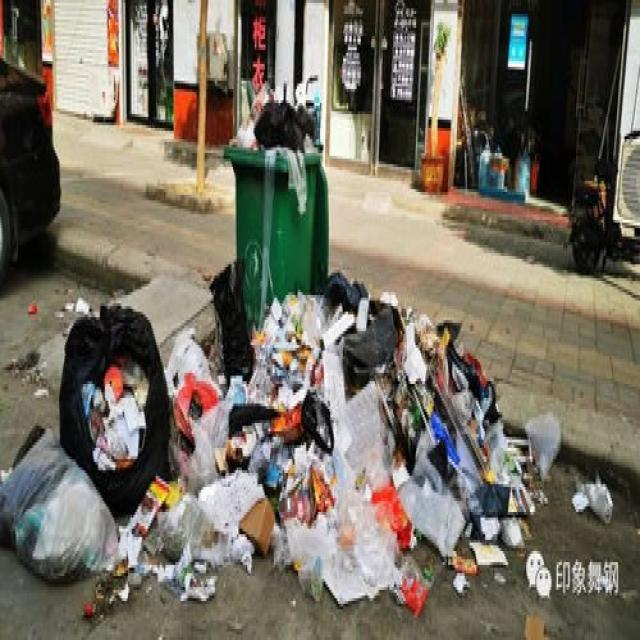garbage: (0, 256, 612, 618)
overflow: (224, 80, 328, 326)
